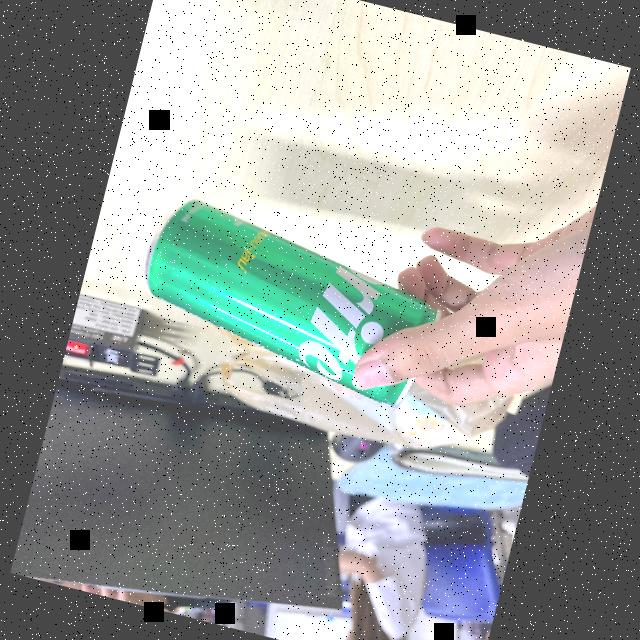can: (115, 175, 454, 428)
